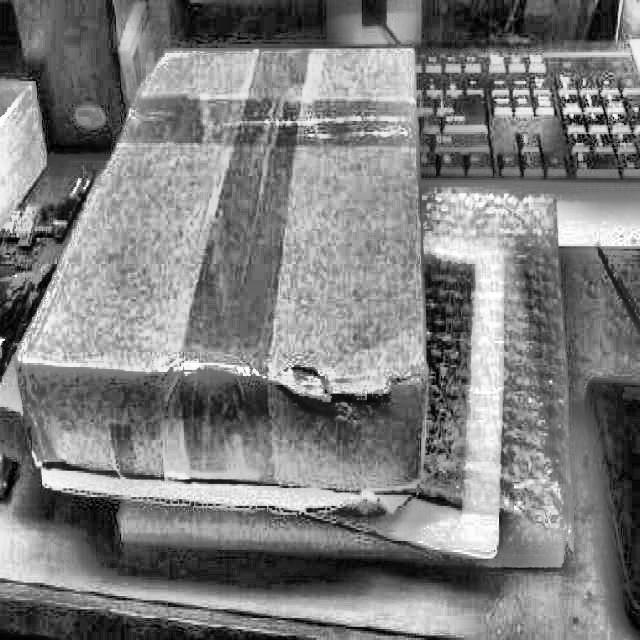box: (12, 41, 437, 531)
hole: (291, 364, 418, 414)
